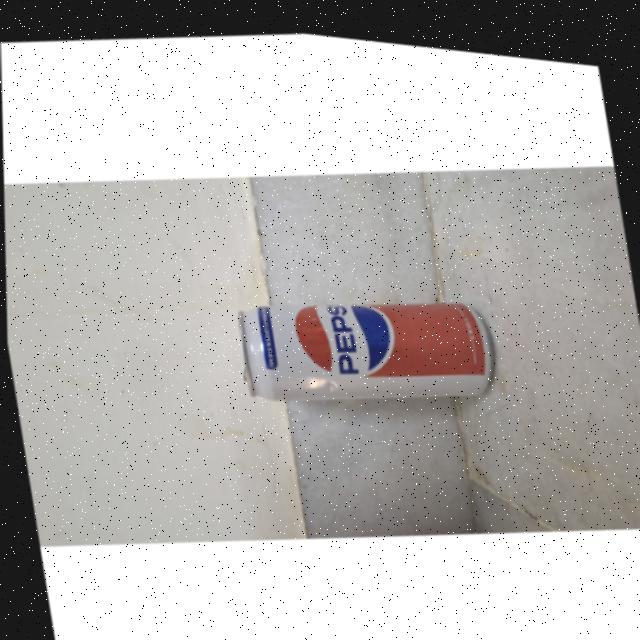Pepsi Retro: (213, 257, 502, 425)
